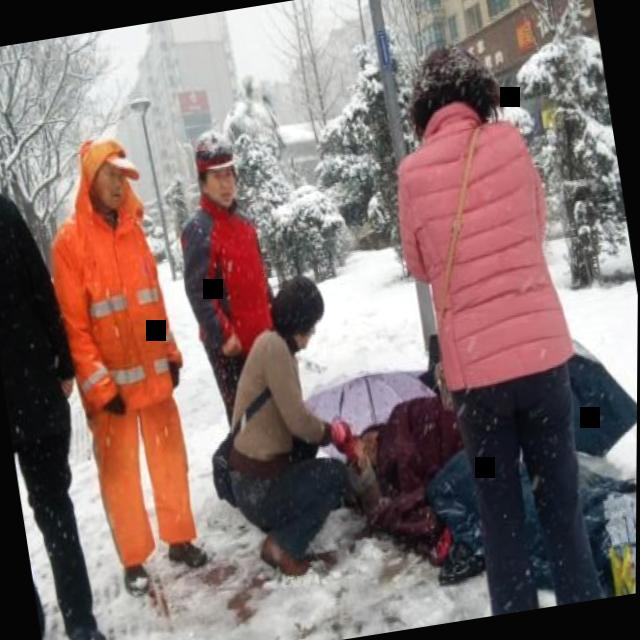Fall-Detected: (314, 333, 638, 603)
